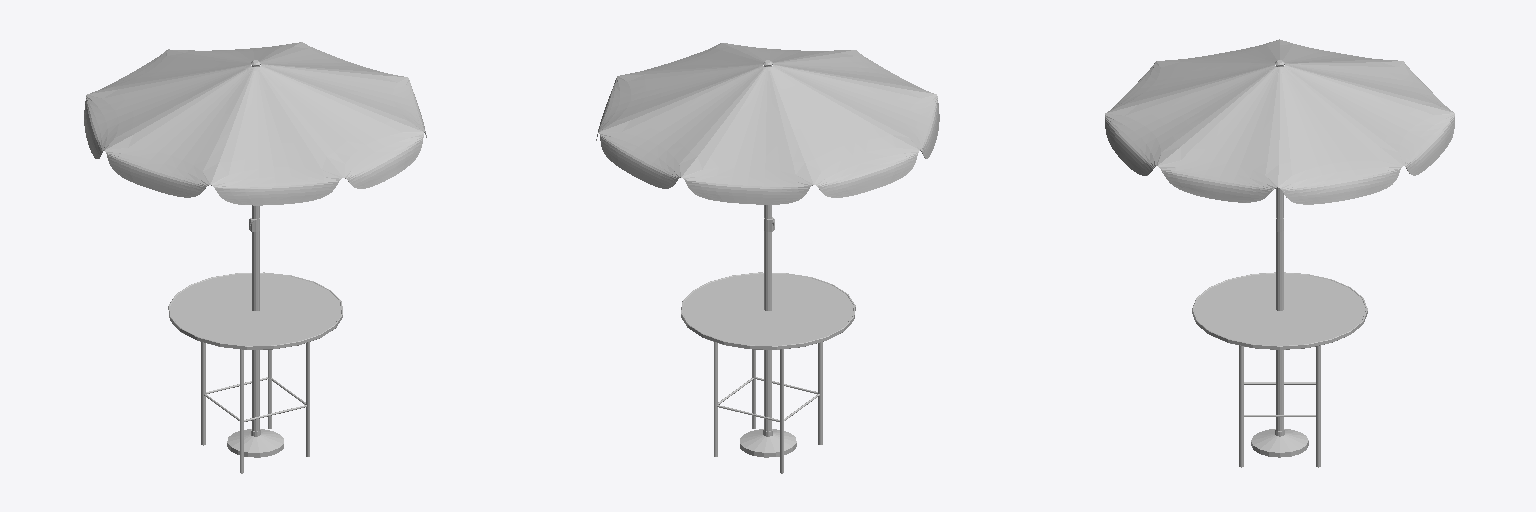
Rendered from Outdoor_Table.obj.
3 views of the same model, side by side, from view 1: azimuth 30°, elevation 25°; view 2: azimuth 150°, elevation 25°; view 3: azimuth 270°, elevation 25° (orthographic).
Parts seen in each view (by area): view 1: Outdoor_Table; view 2: Outdoor_Table; view 3: Outdoor_Table.
Part boxes in pixels (left/top/right/bottom): Outdoor_Table: left=84, top=42, right=426, bottom=473; Outdoor_Table: left=596, top=43, right=939, bottom=473; Outdoor_Table: left=1105, top=39, right=1454, bottom=467.
Size of the model in its own units: 383 by 469 by 382.